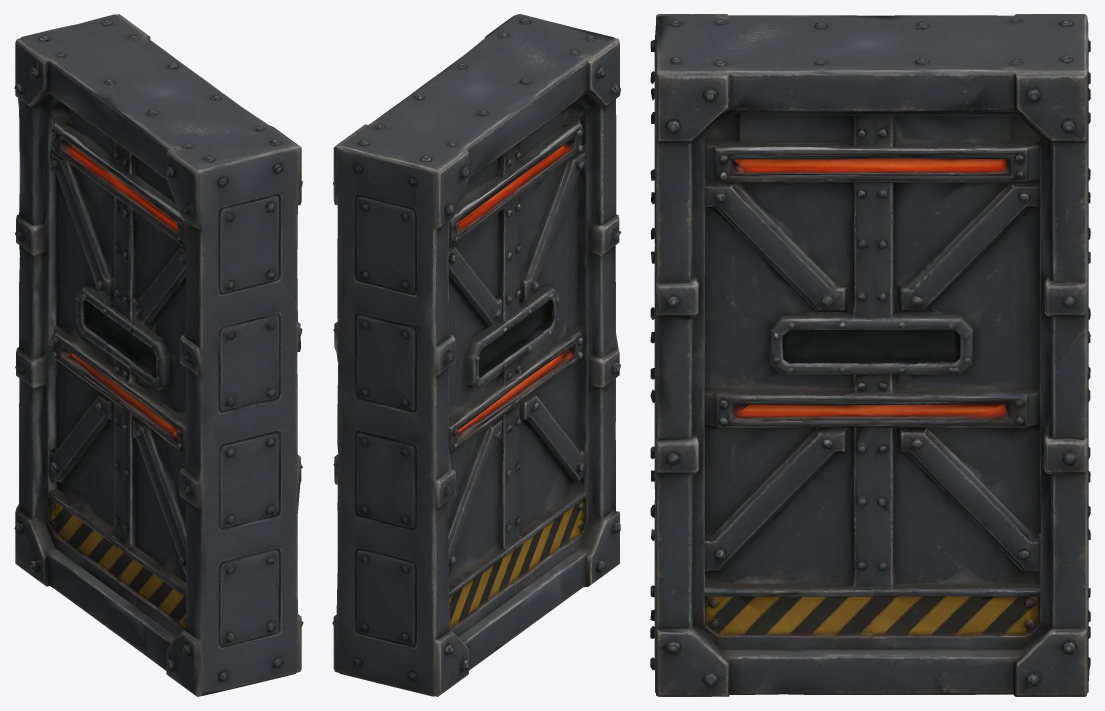
The model's file is door.glb.
3 views of the same model, side by side, from view 1: azimuth 30°, elevation 25°; view 2: azimuth 150°, elevation 25°; view 3: azimuth 270°, elevation 25° (orthographic). The views are drawn at different scales.
Visible parts, largest first — view 1: tripo_node_2b7191d8-86d5-4a8a-a80c-21a55ee93d8a; view 2: tripo_node_2b7191d8-86d5-4a8a-a80c-21a55ee93d8a; view 3: tripo_node_2b7191d8-86d5-4a8a-a80c-21a55ee93d8a.
Part boxes in pixels (x1=…): tripo_node_2b7191d8-86d5-4a8a-a80c-21a55ee93d8a: x1=14, y1=14, x2=303, y2=696; tripo_node_2b7191d8-86d5-4a8a-a80c-21a55ee93d8a: x1=332, y1=14, x2=620, y2=696; tripo_node_2b7191d8-86d5-4a8a-a80c-21a55ee93d8a: x1=650, y1=14, x2=1090, y2=696.
Size of the model in its own units: 0.2281 by 0.981 by 0.6185.
1 material, 1 textured.
